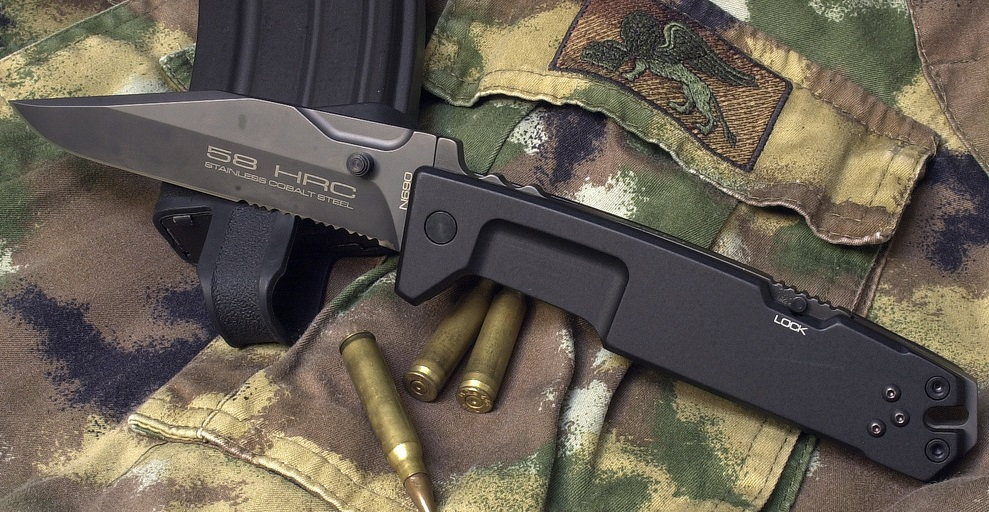knife: (1, 91, 475, 318)
